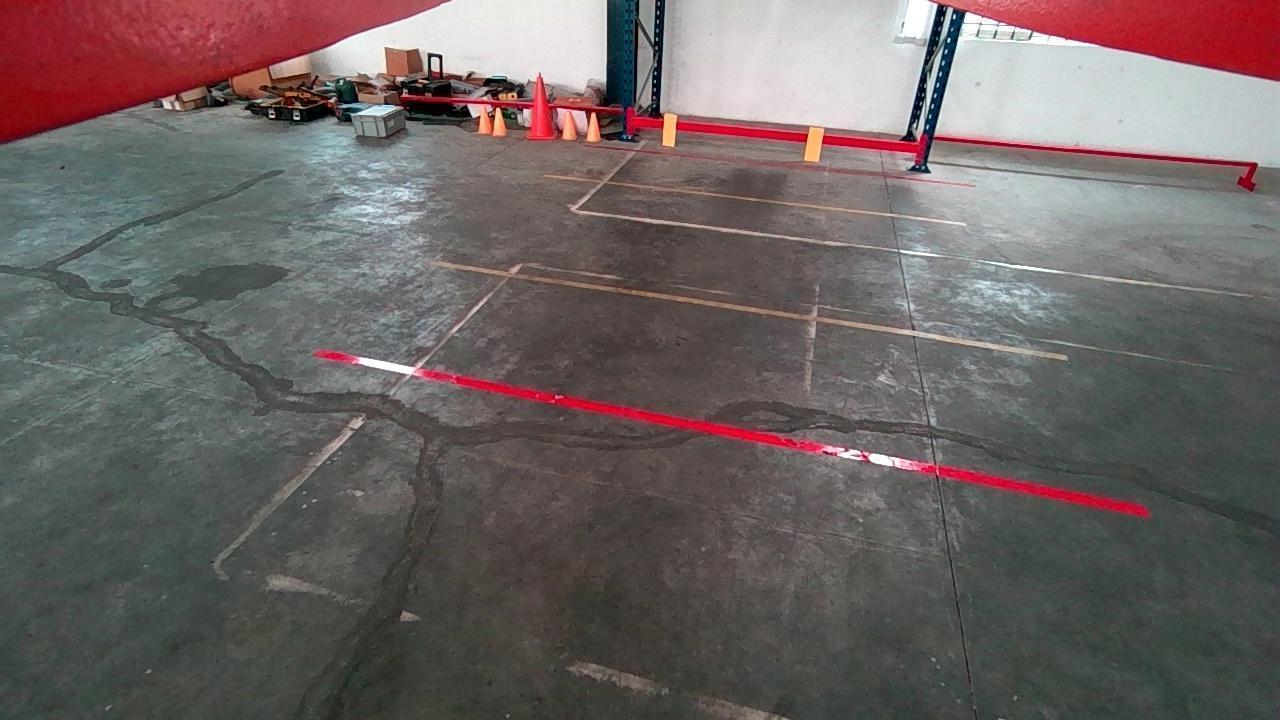red_line: (315, 348, 1150, 518), (584, 145, 974, 187)
yellow_line: (435, 258, 1066, 361), (543, 171, 968, 226)
